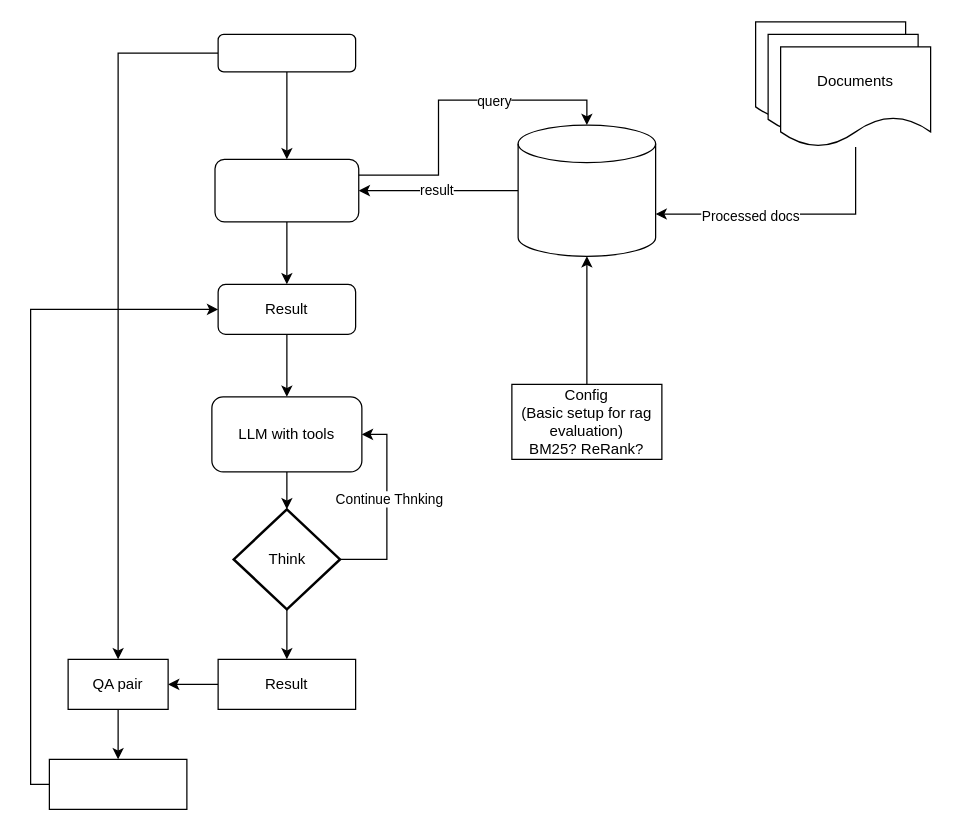
This 953x831 diagram has some shape labels left out. Each missing label, with the centre of its shape:
"Chat History" belongs at (117,783).
"LLM (force to use document search)" belongs at (286,190).
"Prebuilt DB (support sparse and dense search)" belongs at (586,190).
"Prompt" belongs at (286,52).
